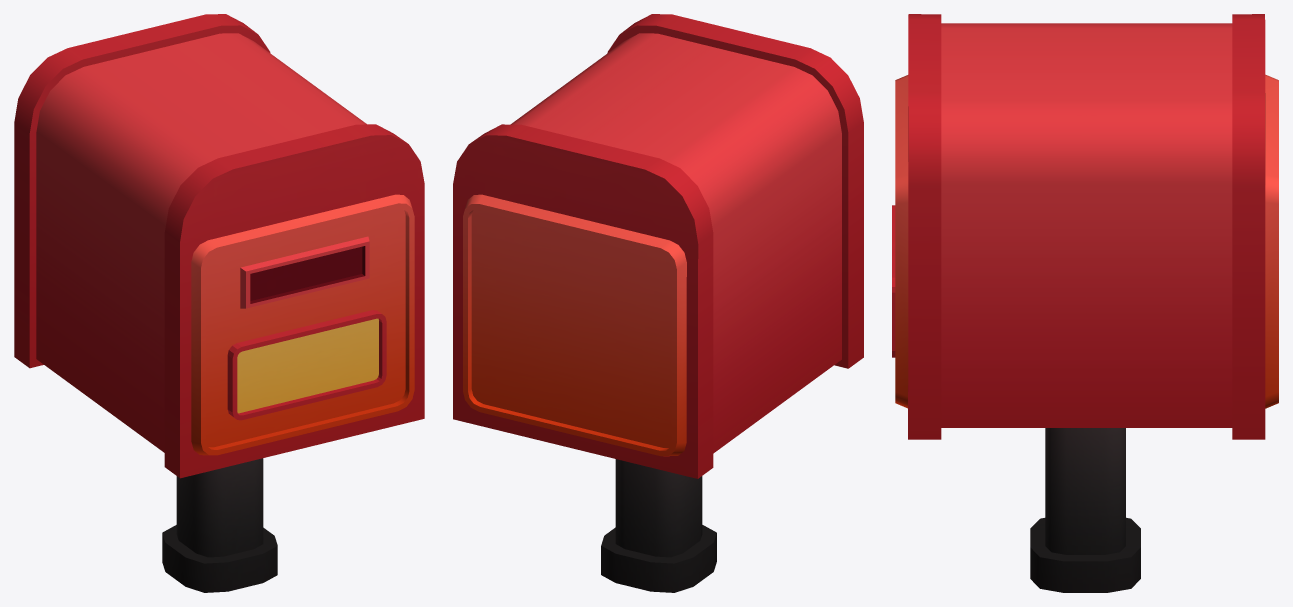
File: Mailbox.fbx
3 views of the same model, side by side, from view 1: azimuth 30°, elevation 25°; view 2: azimuth 150°, elevation 25°; view 3: azimuth 270°, elevation 25° (orthographic). The views are drawn at different scales.
Visible parts, largest first — view 1: Mailbox; view 2: Mailbox; view 3: Mailbox.
Part boxes in pixels (x1,y1,x2,y2): Mailbox: (14,14,424,592); Mailbox: (453,14,863,592); Mailbox: (892,14,1278,592).
Bounding box in the file's own units: 80.56 × 150 × 102.
